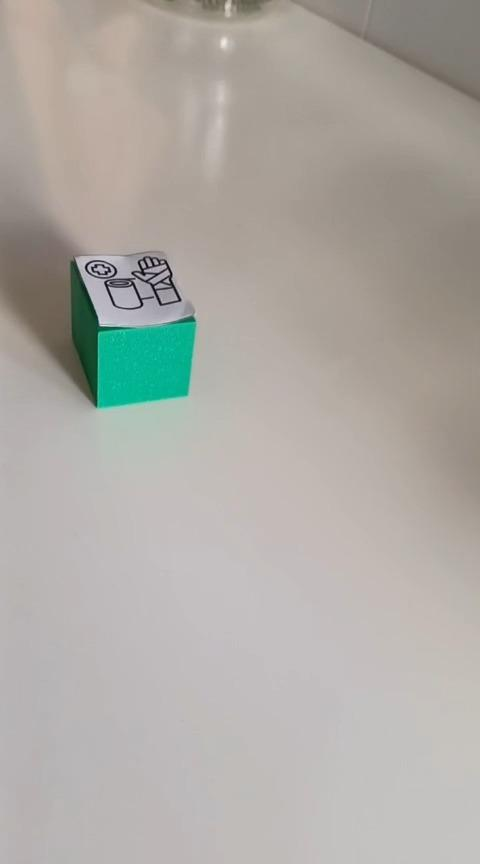Bandages: (68, 249, 197, 409)
